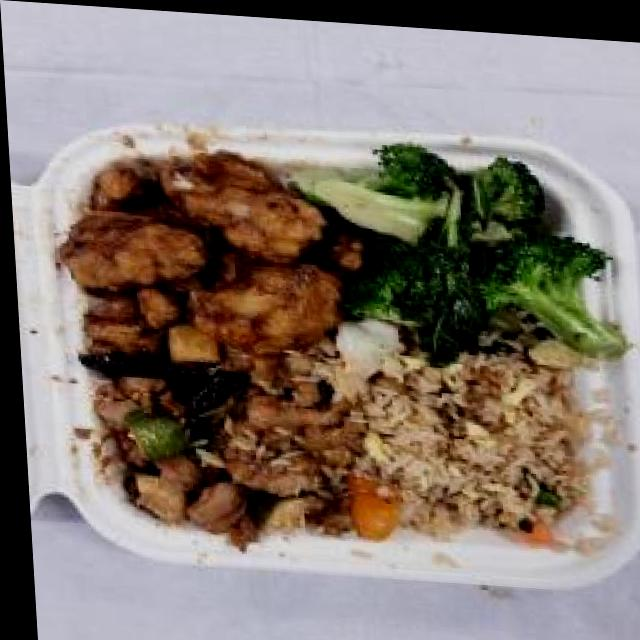Kung Pao Chicken: (60, 320, 393, 557)
Super Greens: (307, 129, 627, 388)
The Original Orange Chicken: (36, 132, 365, 393)
White Steamed Rice: (312, 316, 607, 546)
